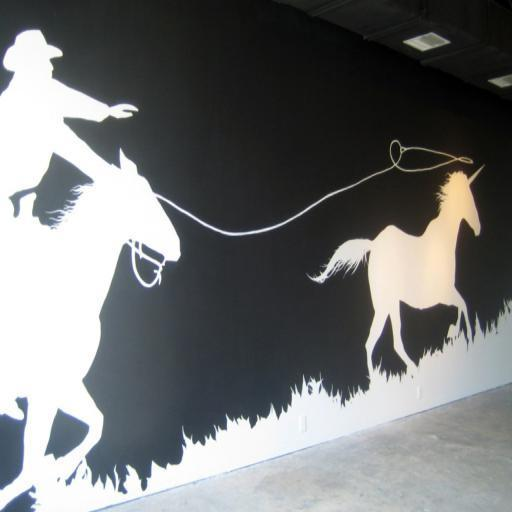horse: (0, 147, 184, 511), (306, 168, 482, 386)
